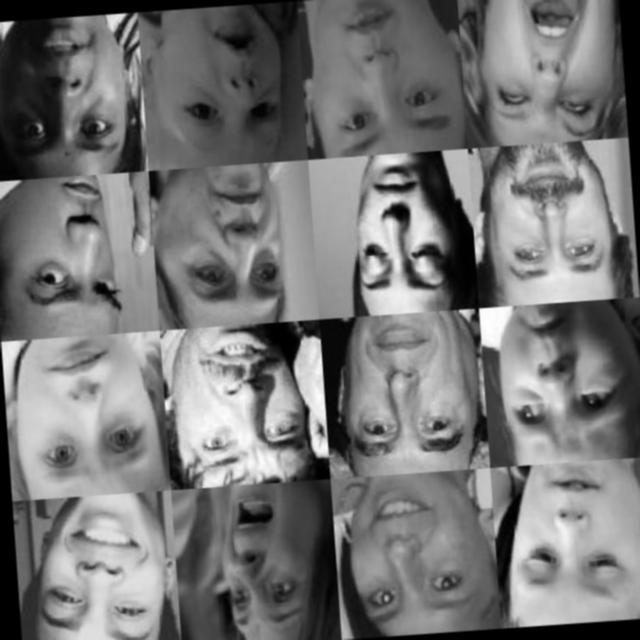angry: (6, 175, 132, 332), (168, 168, 294, 320)
fear: (315, 0, 457, 159), (499, 301, 635, 463), (182, 322, 312, 480), (163, 2, 288, 166), (213, 487, 314, 640)
happy: (342, 476, 487, 636), (507, 461, 640, 625), (28, 501, 160, 640), (495, 142, 610, 292)
neutral: (337, 311, 478, 475), (0, 13, 129, 169), (344, 152, 457, 308)
sad: (16, 337, 163, 494)
